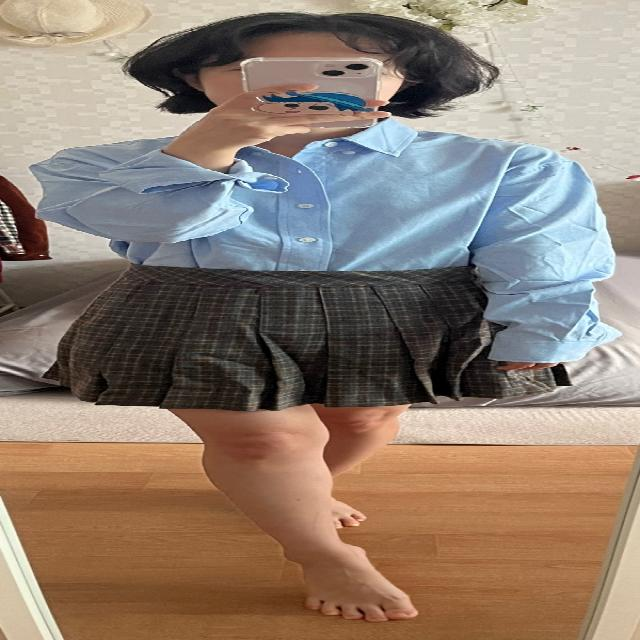shirt: (35, 114, 626, 364)
skirt: (36, 262, 576, 408)
